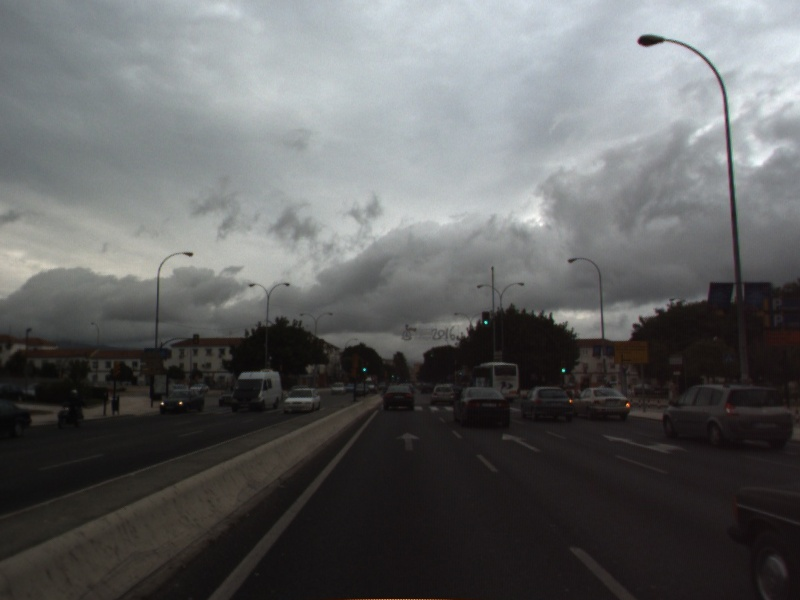STRAIGHT: (500, 430, 544, 454), (394, 429, 422, 453)
STRAIGHT_RIGHT: (600, 432, 691, 457)
